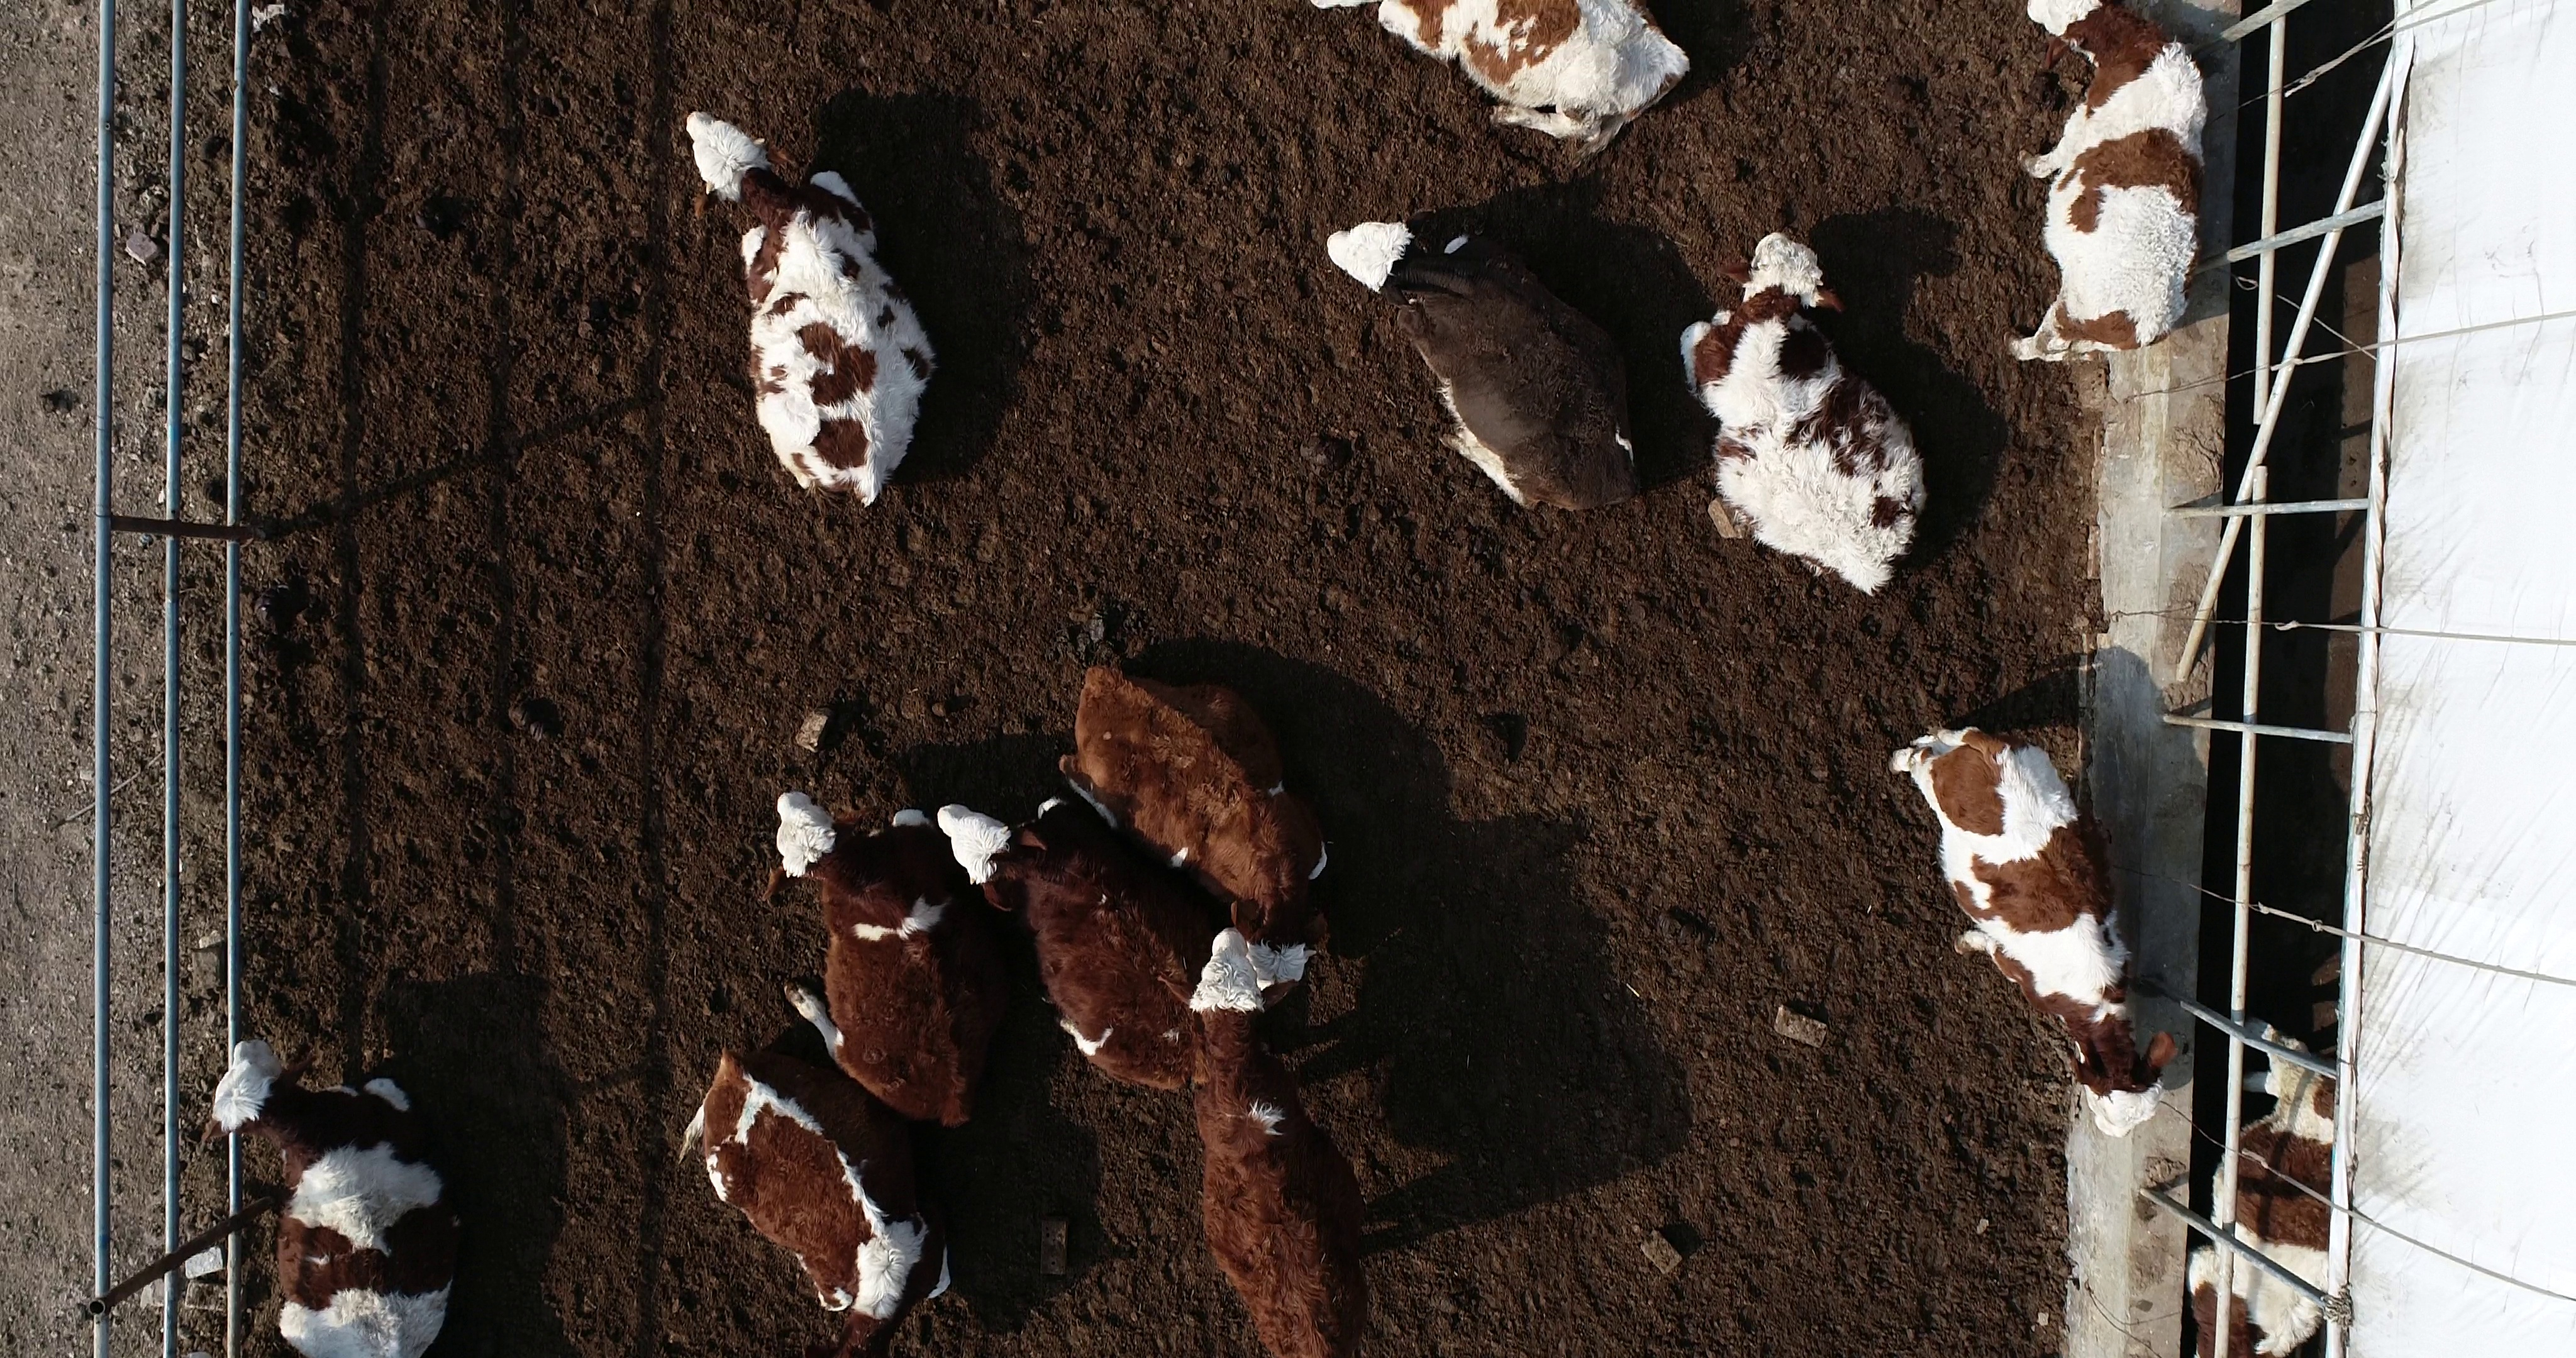cattle: (1883, 712, 2181, 1143), (675, 101, 947, 516), (1310, 206, 1651, 523), (1673, 230, 1932, 605), (1165, 927, 1373, 1358), (1993, 0, 2213, 366)
